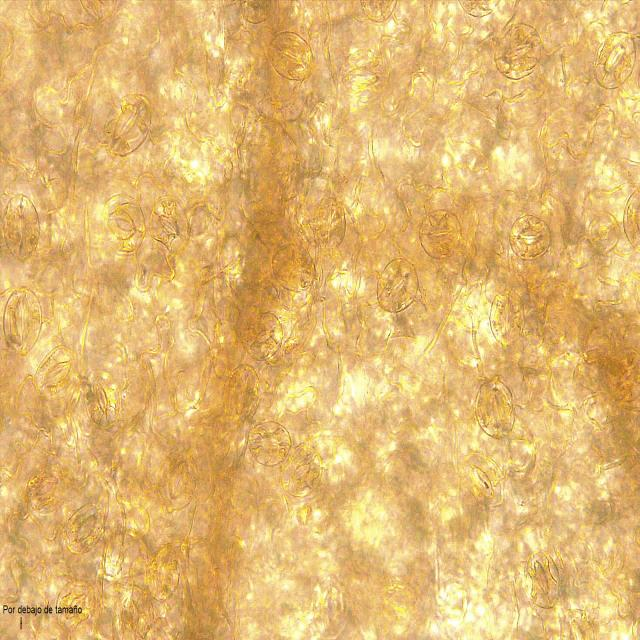Stomata: (102, 92, 154, 158), (2, 286, 44, 358), (2, 192, 43, 264), (101, 192, 147, 256), (494, 21, 542, 82), (474, 376, 517, 440), (148, 193, 192, 255), (337, 48, 388, 101), (594, 29, 635, 92), (157, 450, 199, 511), (34, 344, 78, 401), (280, 441, 324, 498), (266, 30, 315, 81), (376, 257, 419, 314), (462, 450, 504, 508), (312, 575, 350, 639), (222, 364, 261, 426), (270, 242, 318, 292), (83, 370, 122, 429), (418, 208, 462, 260), (144, 544, 182, 602), (524, 549, 560, 610), (24, 462, 66, 514), (242, 310, 284, 362), (65, 502, 105, 556), (489, 288, 525, 348), (247, 421, 292, 468), (508, 213, 551, 261), (312, 196, 347, 252), (588, 212, 620, 256)
